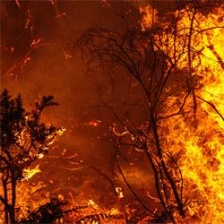fire: (141, 5, 222, 224), (6, 76, 69, 217)
